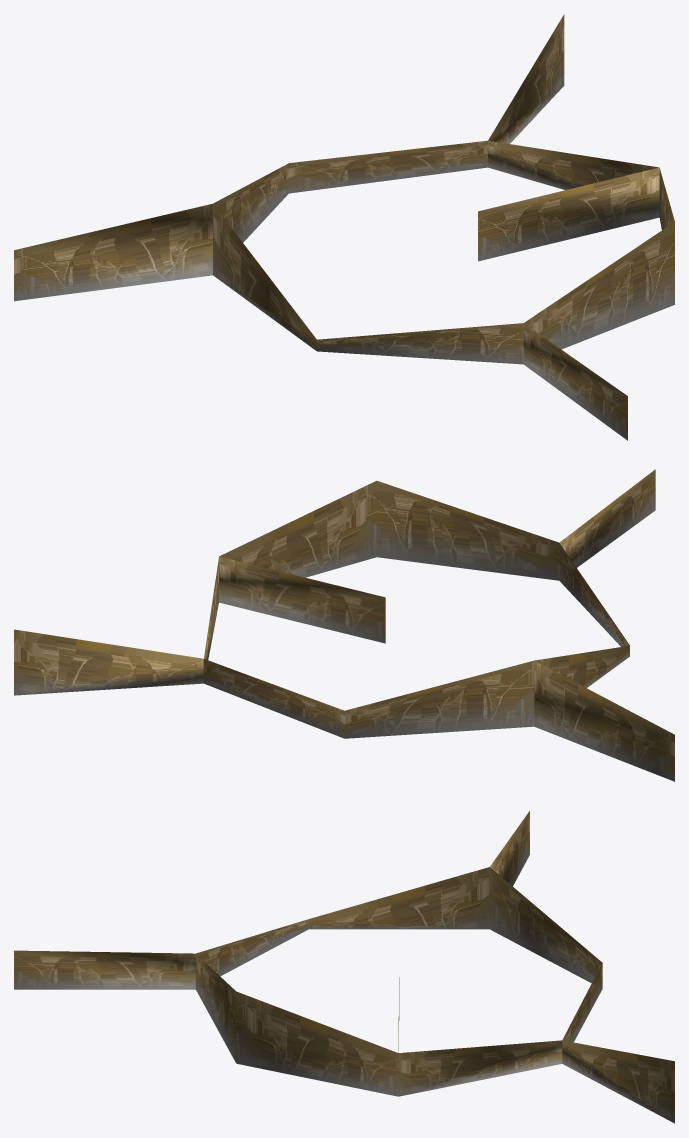
File: mveg2as.glb
3 views of the same model, one above another, from view 1: azimuth 30°, elevation 25°; view 2: azimuth 150°, elevation 25°; view 3: azimuth 270°, elevation 25° (orthographic). The views are drawn at different scales.
Parts seen in each view (by area): view 1: _mveg2as; view 2: _mveg2as; view 3: _mveg2as.
Part boxes in pixels (box(x1,y1,x2,y2)): _mveg2as: box(14, 14, 674, 440); _mveg2as: box(14, 469, 674, 781); _mveg2as: box(14, 811, 674, 1123).
Size of the model in its own units: 4.71 by 0.5899 by 4.89.
Materials: 1 (1 with a texture image).
